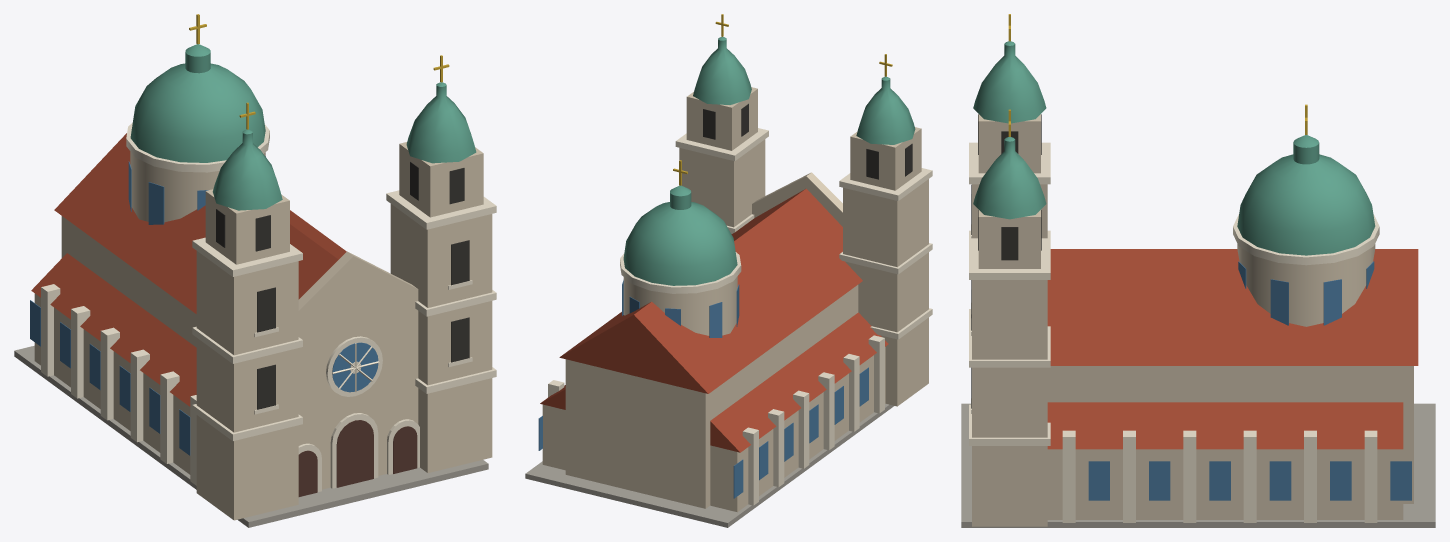
File: cathedral.glb
The picture shows the model from 3 angles, left to right: view 1: azimuth 30°, elevation 25°; view 2: azimuth 150°, elevation 25°; view 3: azimuth 270°, elevation 25°; orthographic projection. The views are drawn at different scales.
Parts seen in each view (by area): view 1: cathedral; view 2: cathedral; view 3: cathedral.
Part boxes in pixels (x1,y1,x2,y2): cathedral: [14, 14, 496, 527]; cathedral: [525, 14, 932, 527]; cathedral: [961, 14, 1435, 527].
Size of the model in its own units: 28.6 by 41.6 by 44.
